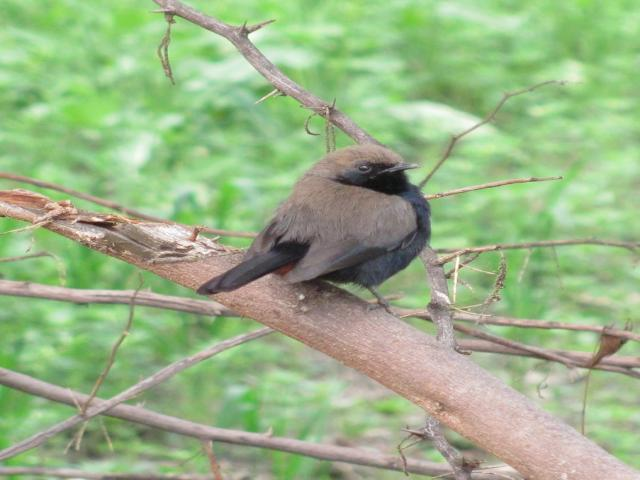Bird: (190, 139, 425, 317)
